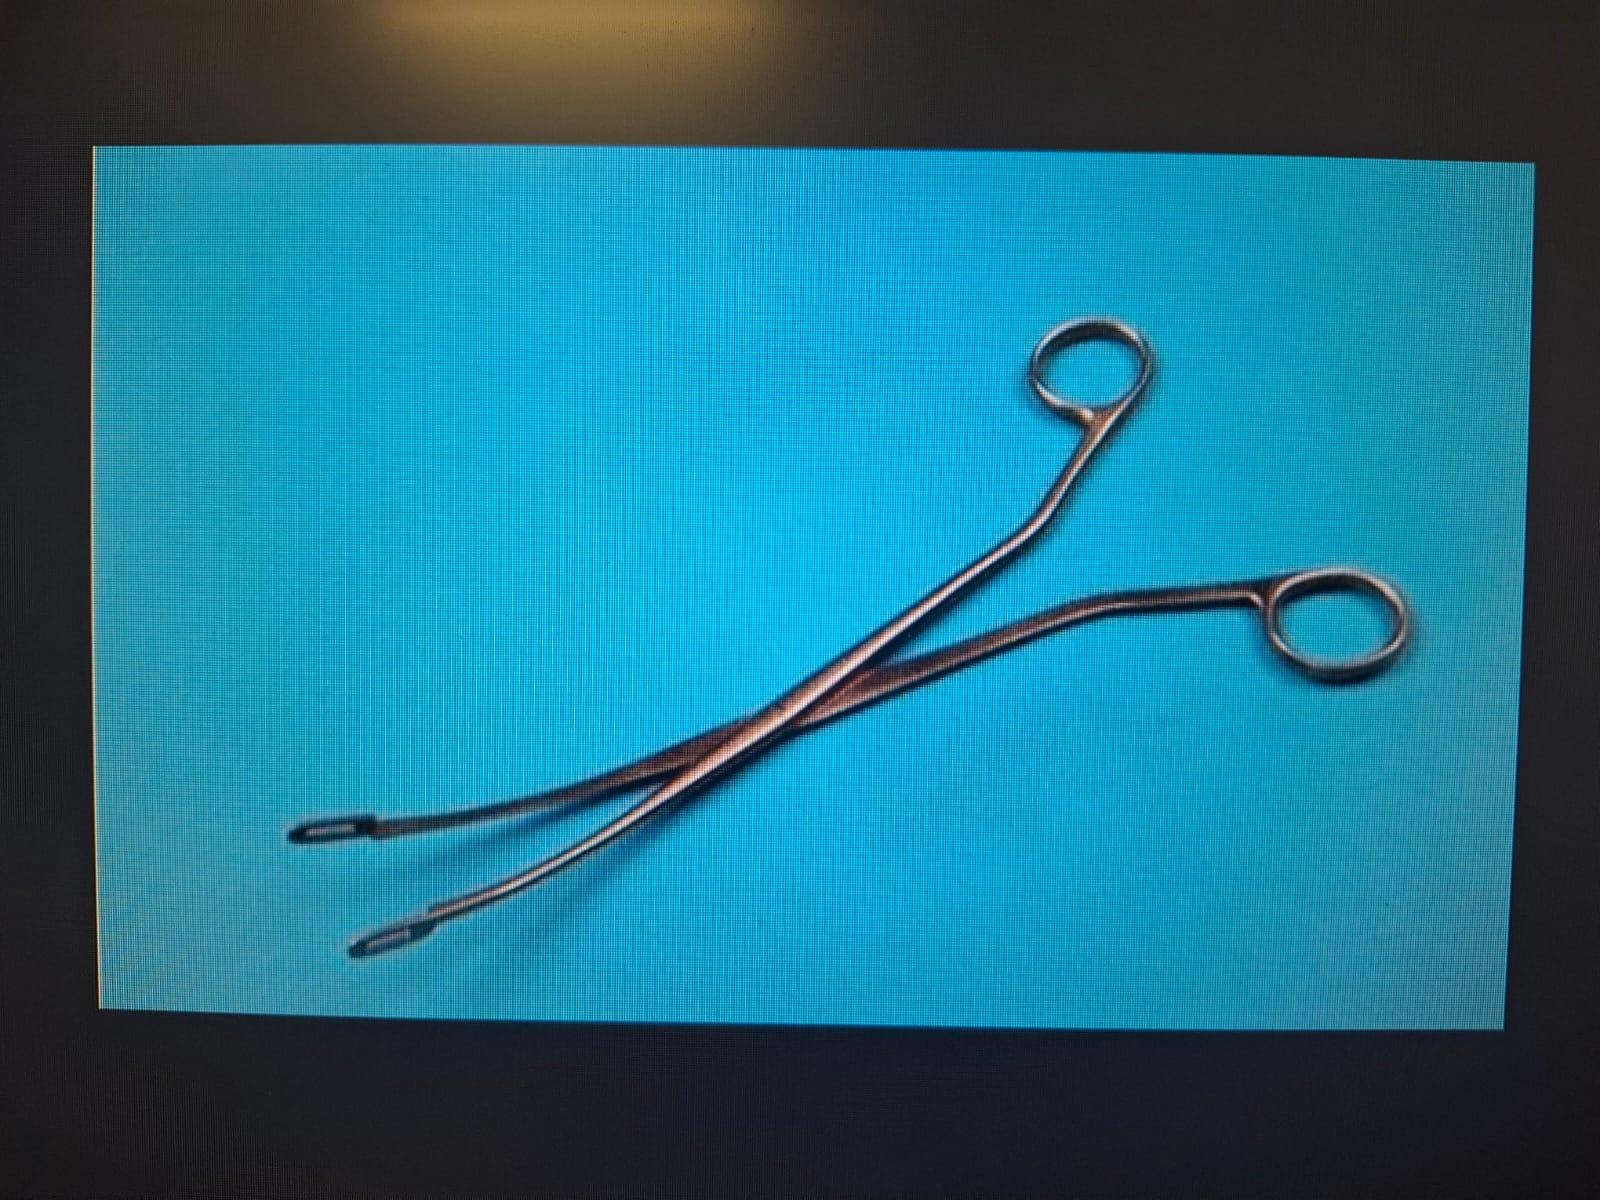Desjardin Forceps: (276, 306, 1442, 976)
